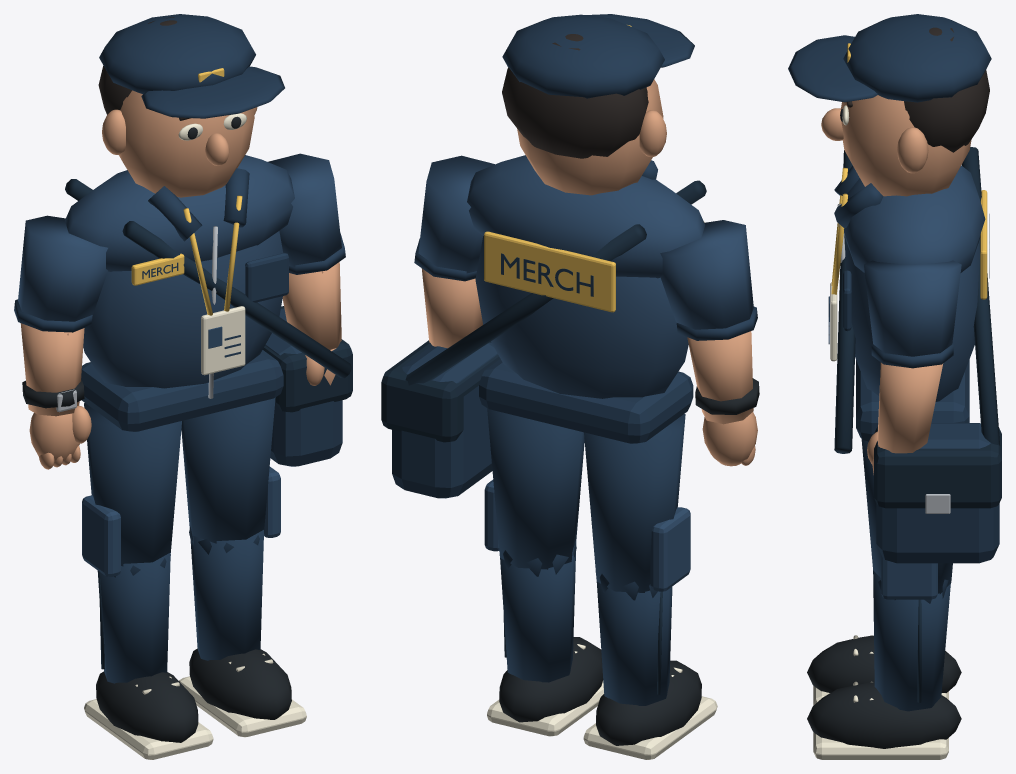
The model's file is merch-hero.glb.
3 views of the same model, side by side, from view 1: azimuth 30°, elevation 25°; view 2: azimuth 150°, elevation 25°; view 3: azimuth 270°, elevation 25° (orthographic). The views are drawn at different scales.
Visible parts, largest first — view 1: Spine_uniform navy, Spine_navy cotton, Head_navy cotton, RightLeg_navy cotton, LeftLeg_navy cotton, Head_warm skin, RightKnee_navy cotton, LeftKnee_navy cotton, Spine_denim seams, LeftArm_uniform navy, LeftFoot_rubber and eyes, RightFoot_rubber and eyes (+14 smaller); view 2: Spine_uniform navy, Spine_navy cotton, RightLeg_navy cotton, Head_navy cotton, LeftLeg_navy cotton, Spine_denim seams, RightKnee_navy cotton, Head_dark hair, LeftArm_uniform navy, LeftKnee_navy cotton, Spine_ochre identity, Head_warm skin (+13 smaller); view 3: Spine_uniform navy, Spine_denim seams, Head_navy cotton, Spine_navy cotton, Head_warm skin, RightArm_uniform navy, RightKnee_navy cotton, RightFoot_rubber and eyes, RightElbow_warm skin, Head_dark hair, LeftFoot_rubber and eyes, RightFoot_warm white (+7 smaller).
Boxes of the visible parts, x1,y1,x2,y2 form: Spine_uniform navy: (65,155,294,388); Spine_navy cotton: (81,168,342,466); Head_navy cotton: (99,14,284,118); RightLeg_navy cotton: (181,397,275,545); LeftLeg_navy cotton: (84,403,181,566); Head_warm skin: (102,90,257,197); RightKnee_navy cotton: (189,526,263,660); LeftKnee_navy cotton: (97,552,170,683); Spine_denim seams: (65,179,352,412); LeftArm_uniform navy: (18,215,107,321); LeftFoot_rubber and eyes: (96,671,198,742); RightFoot_rubber and eyes: (189,648,291,719); Spine_uniform navy: (467,155,705,398); Spine_navy cotton: (392,160,693,498); RightLeg_navy cotton: (487,408,584,569); Head_navy cotton: (502,14,694,98); LeftLeg_navy cotton: (584,414,685,592); Spine_denim seams: (381,180,706,442); RightKnee_navy cotton: (500,540,576,682); Head_dark hair: (502,34,648,158); LeftArm_uniform navy: (660,220,753,329); LeftKnee_navy cotton: (595,572,672,705); Spine_ochre identity: (484,222,704,312); Head_warm skin: (517,79,666,195); Spine_uniform navy: (828,165,985,401); Spine_denim seams: (834,147,1001,508); Head_navy cotton: (788,14,991,102); Spine_navy cotton: (828,166,999,563); Head_warm skin: (821,95,971,196); RightArm_uniform navy: (864,260,961,356); RightKnee_navy cotton: (873,570,950,711); RightFoot_rubber and eyes: (807,682,961,748); RightElbow_warm skin: (877,362,943,453); Head_dark hair: (846,27,989,152); LeftFoot_rubber and eyes: (807,635,961,692); RightFoot_warm white: (813,681,948,759).
Bounding box in the file's own units: 1.21 × 2.44 × 0.6775.
